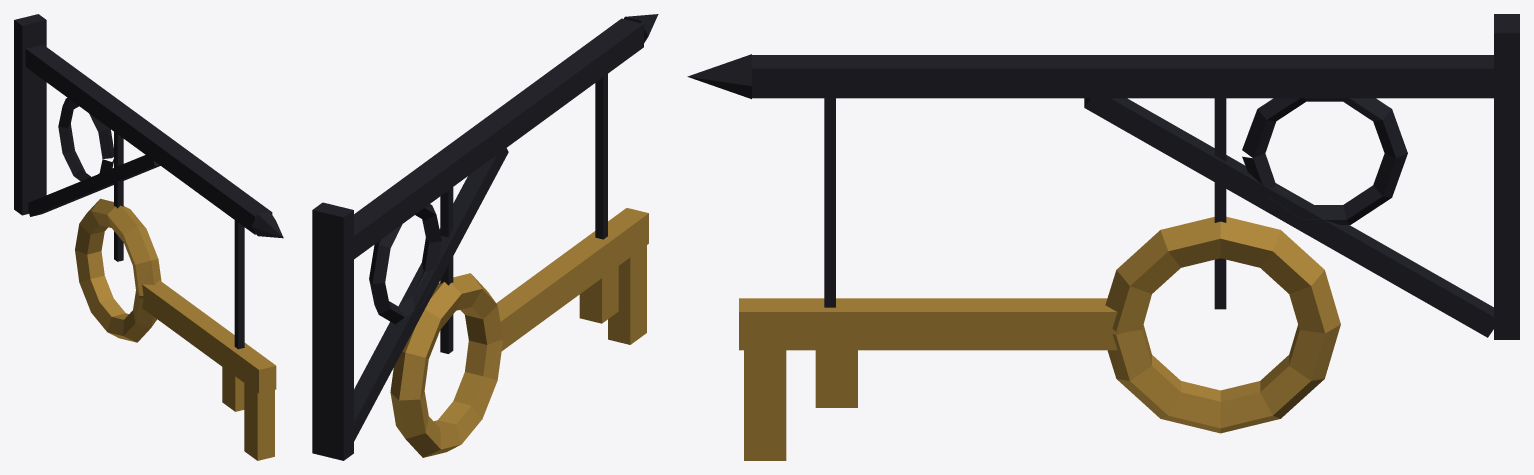
File: shop-sign-ironmonger.glb
3 renders of one model, left to right at view 1: azimuth 30°, elevation 25°; view 2: azimuth 150°, elevation 25°; view 3: azimuth 270°, elevation 25°, orthographic. The views are drawn at different scales.
Visible parts, largest first — view 1: shop-sign-ironmonger; view 2: shop-sign-ironmonger; view 3: shop-sign-ironmonger.
Boxes of the visible parts, box(x1,y1,x2,y2) form: shop-sign-ironmonger: box(14, 14, 283, 460); shop-sign-ironmonger: box(312, 14, 658, 460); shop-sign-ironmonger: box(687, 14, 1519, 460).
Bounding box in the file's own units: 0.07 × 0.73 × 1.28.
